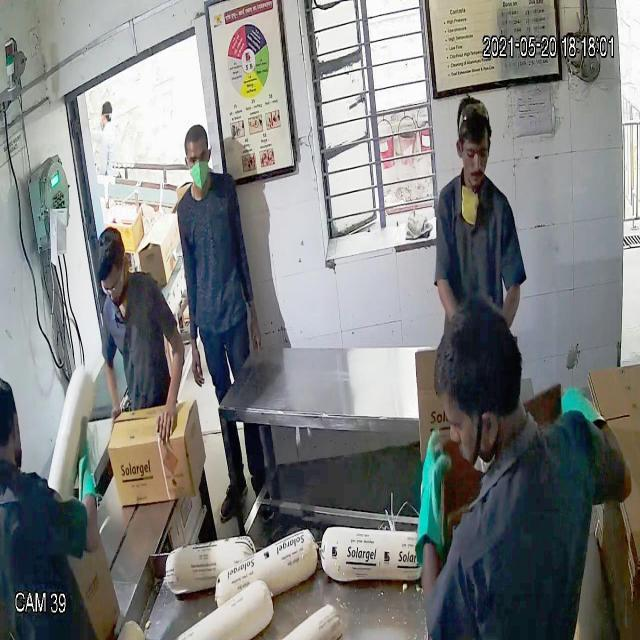glasses: (97, 268, 129, 300)
no-glass: (455, 134, 493, 167), (180, 143, 219, 174)
